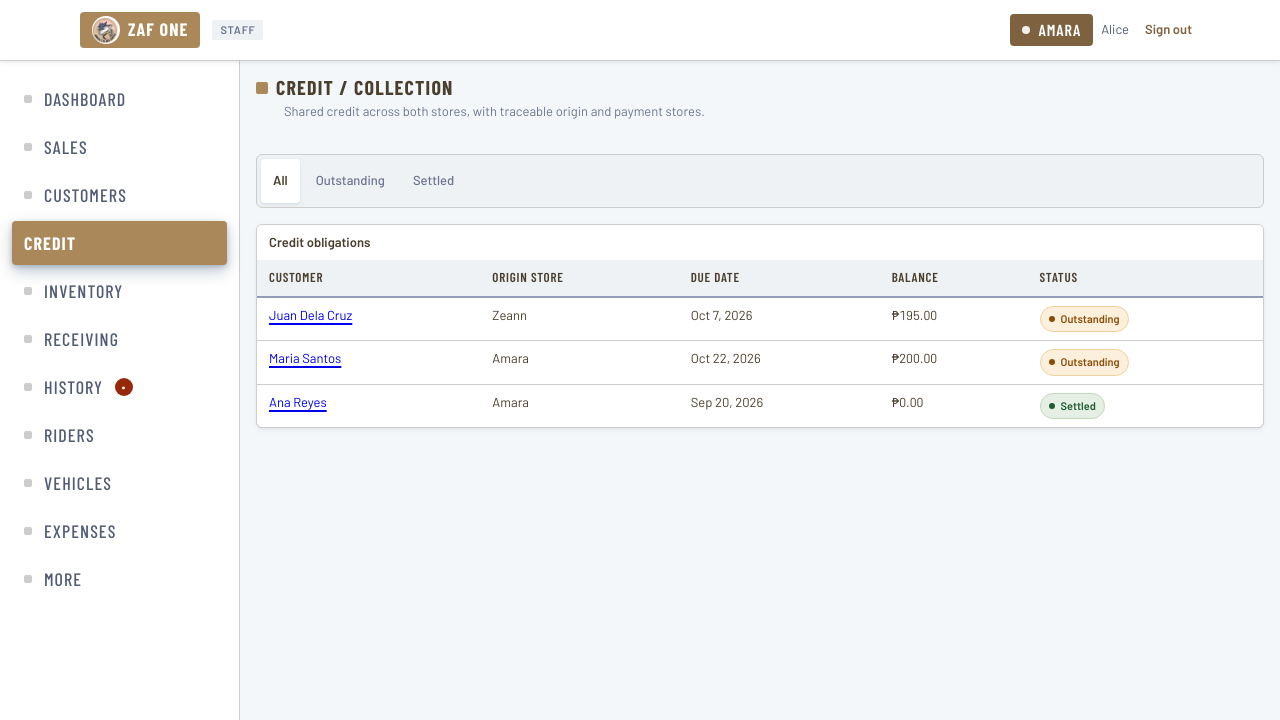
Test: CreditListPage › filters by status
The image size is (1280, 720).
Expected: the link "Maria Santos" is shown, [269,350,341,366]
Click the radio button labelled "Settled": (434, 181) [401,159,466,203]
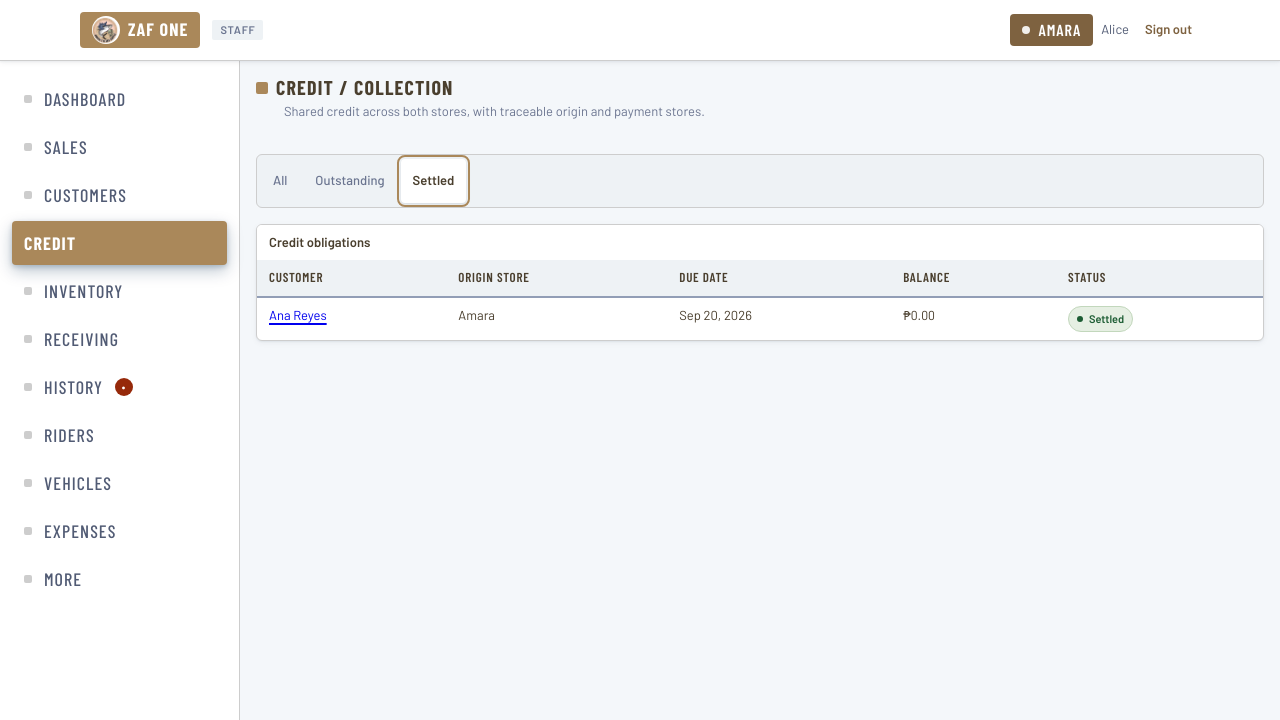
Result: the link "Ana Reyes" is shown at [269,307,327,323]
Result: the link "Maria Santos" is gone
